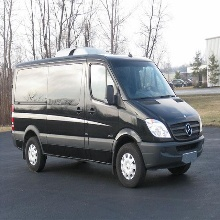no damage: (10, 51, 204, 188)
